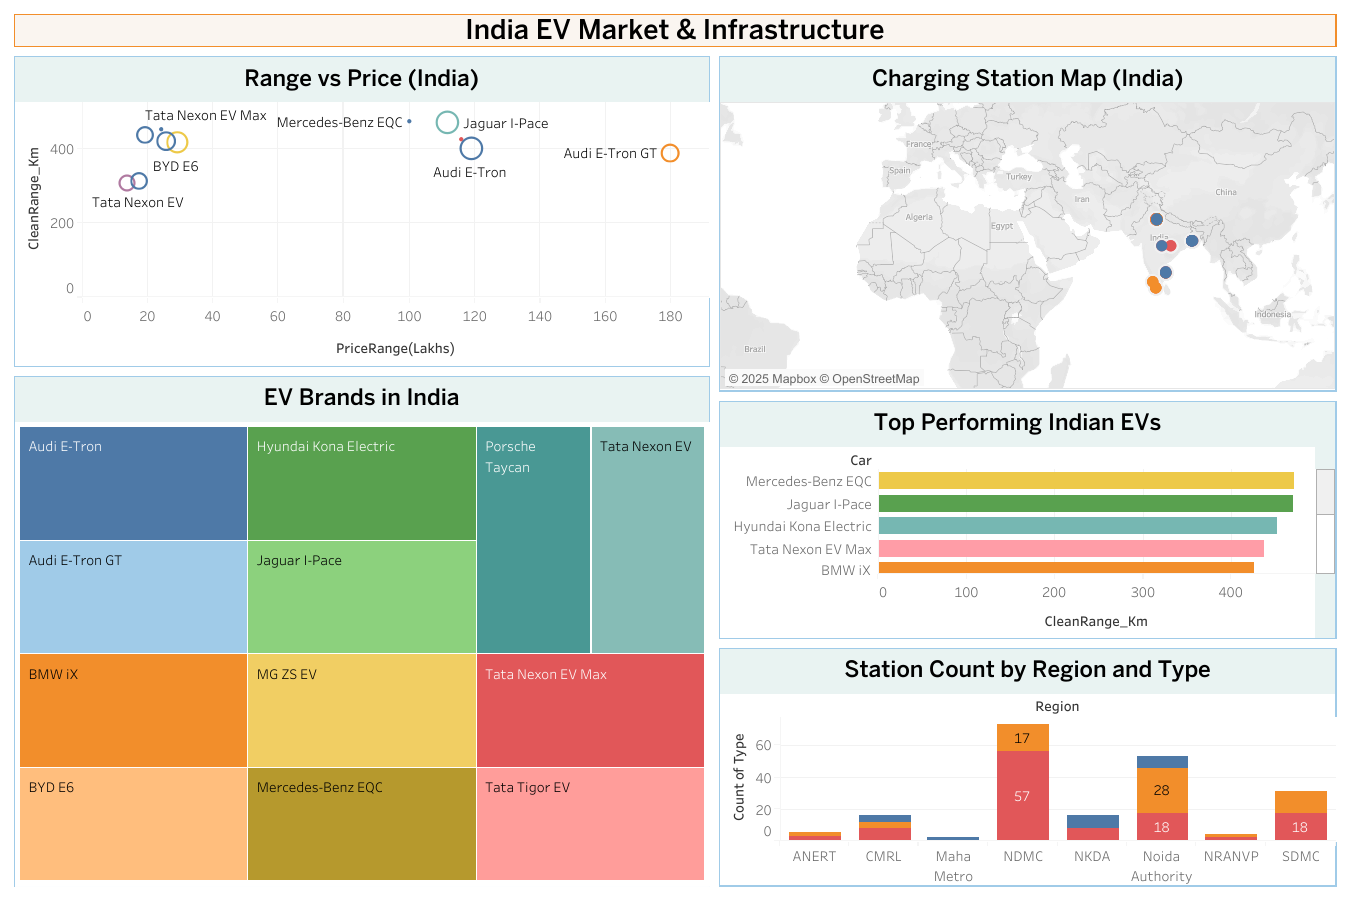

The page's visual inventory and layout, read from the dashboard file:
{"tool":"tableau","page":{"name":"India EV Market & Infrastructure","canvas":[1200,800],"ordinal":1},"visuals":[{"type":"title","box":[8,8,1184,44]},{"type":"worksheet","title":"Range vs Price (India)","mark":"Automatic","rows":["Calculation_1569785968983048192"],"cols":["PriceRange(Lakhs)"],"box":[8,52,627,281.8]},{"type":"worksheet","title":"Charging Station Map (India)","mark":"Automatic","rows":["latitude"],"cols":["longitude"],"box":[635,52,557,303.8]},{"type":"worksheet","title":"EV Brands in India","mark":"Automatic","box":[8,333.8,627,458.2]},{"type":"worksheet","title":"Top Performing Indian EVs","mark":"Automatic","rows":["Car"],"cols":["Calculation_1569785968983048192"],"box":[635,355.8,557,218.1]},{"type":"worksheet","title":"Station Count by Region and Type","mark":"Automatic","rows":["type"],"cols":["region"],"box":[635,573.9,557,218.1]}]}

Visuals, with their boxes in screenshot pixels (x1, y1, x2, y2), scaled from the page's 1200x800 canvas onto the 1349x899 screenshot:
title: <bbox>9, 9, 1340, 58</bbox>
"Range vs Price (India)" worksheet: <bbox>9, 58, 714, 375</bbox>
"Charging Station Map (India)" worksheet: <bbox>714, 58, 1340, 400</bbox>
"EV Brands in India" worksheet: <bbox>9, 375, 714, 890</bbox>
"Top Performing Indian EVs" worksheet: <bbox>714, 400, 1340, 645</bbox>
"Station Count by Region and Type" worksheet: <bbox>714, 645, 1340, 890</bbox>
